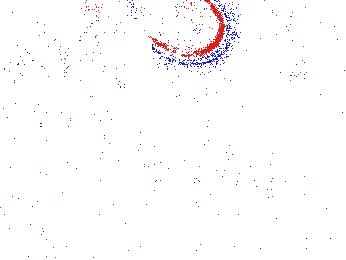moon jellyfish: (138, 1, 236, 65), (267, 1, 346, 76), (24, 1, 102, 69), (93, 1, 148, 83)
